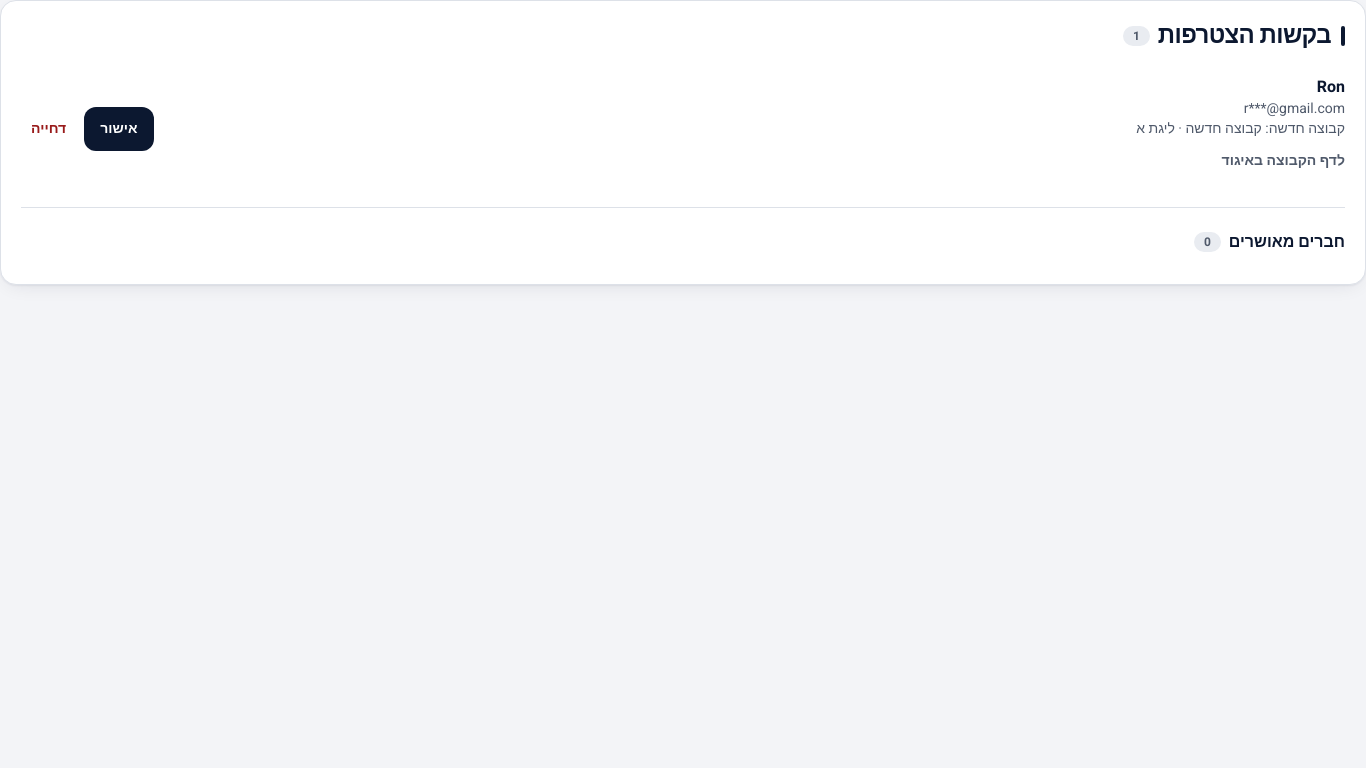
MembershipRequests › approving a team request confirms that the requester becomes admin, then POSTs approve
Click the button with aria-label "אישור הבקשה של Ron".
click(119, 129)  # box [84,107,154,151]
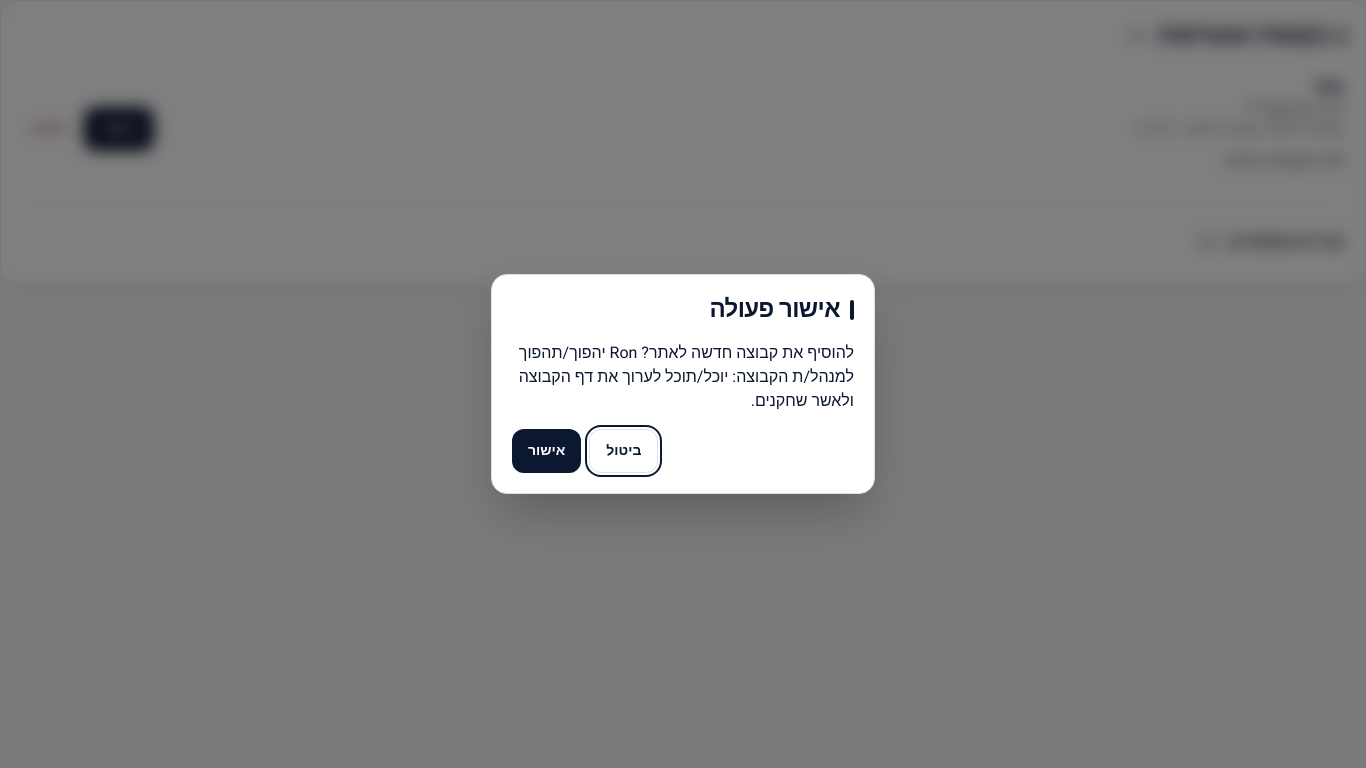
Now the text "Ron יהפוך/תהפוך למנהל/ת הקבוצה" is shown, box [519,341,854,413]
Click the button "אישור".
click(547, 451)  # box [512,429,581,473]
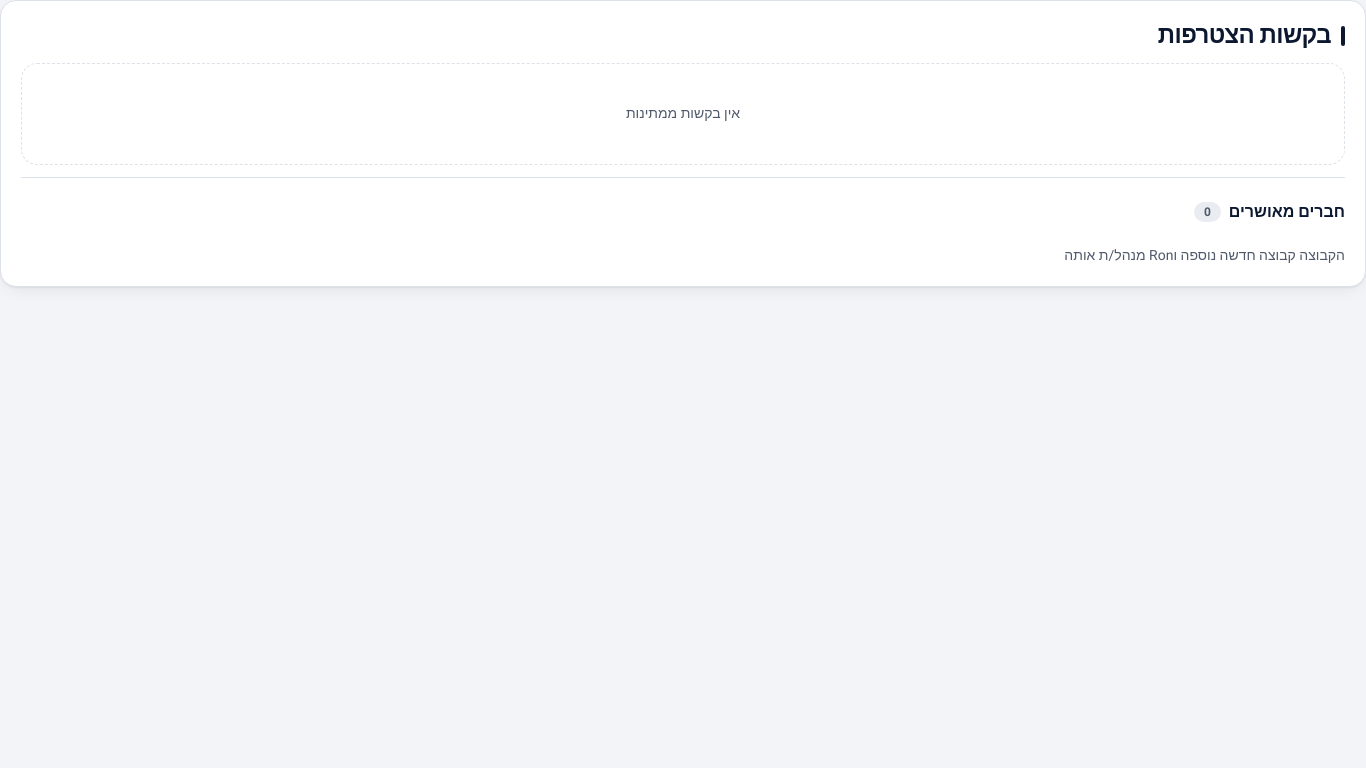
Now the text "קבוצה חדשה · ליגת א" is gone
Now the message "הקבוצה קבוצה חדשה נוספה וRon מנהל/ת אותה" is shown, box [1064,245,1345,266]
